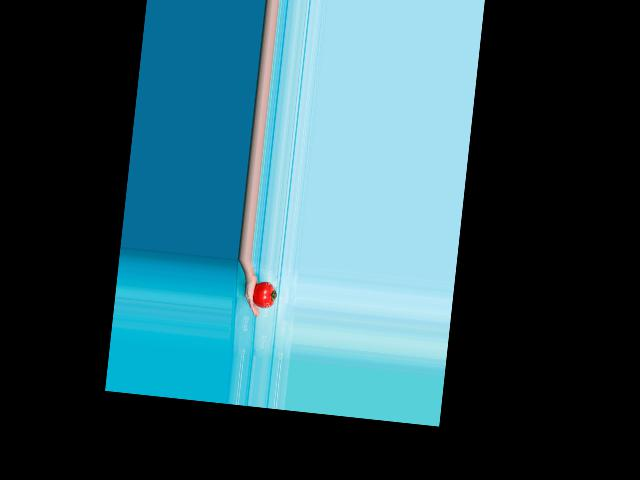tomato: (251, 281, 277, 309)
